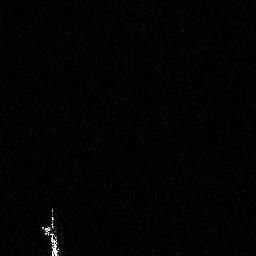ship: (38, 203, 66, 256)
